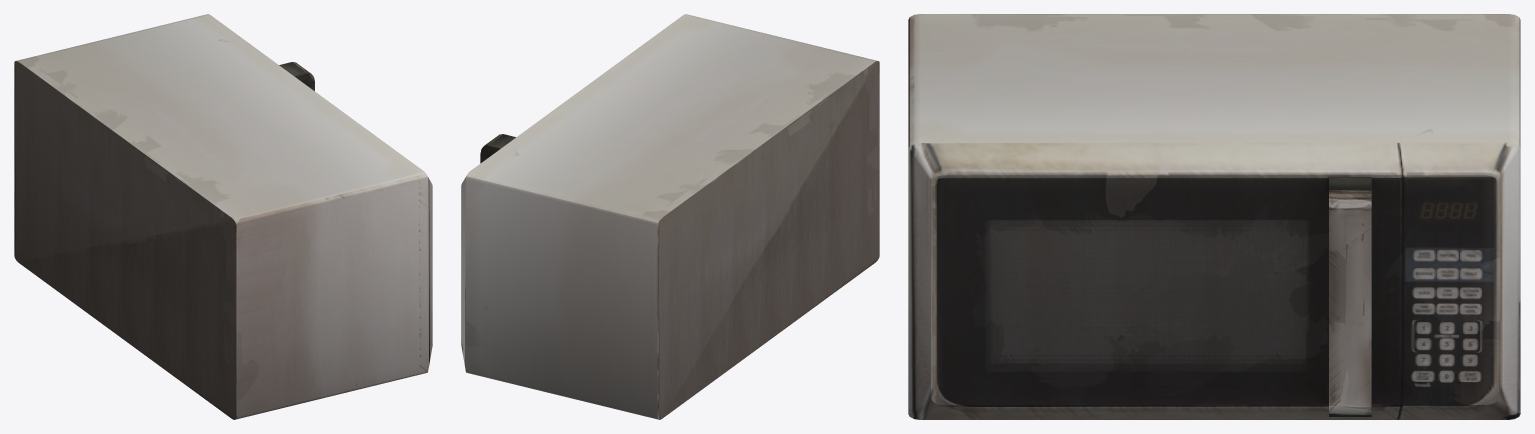
Rendered from PROP_Microwave_01.fbx.
3 renders of one model, left to right at view 1: azimuth 30°, elevation 25°; view 2: azimuth 150°, elevation 25°; view 3: azimuth 270°, elevation 25°, orthographic. The views are drawn at different scales.
Visible parts, largest first — view 1: PROP_Microwave_01; view 2: PROP_Microwave_01; view 3: PROP_Microwave_01.
Boxes of the visible parts, x1,y1,x2,y2 form: PROP_Microwave_01: [14, 14, 432, 419]; PROP_Microwave_01: [461, 14, 879, 419]; PROP_Microwave_01: [908, 14, 1520, 419].
Bounding box in the file's own units: 14.71 × 12.21 × 24.47.
